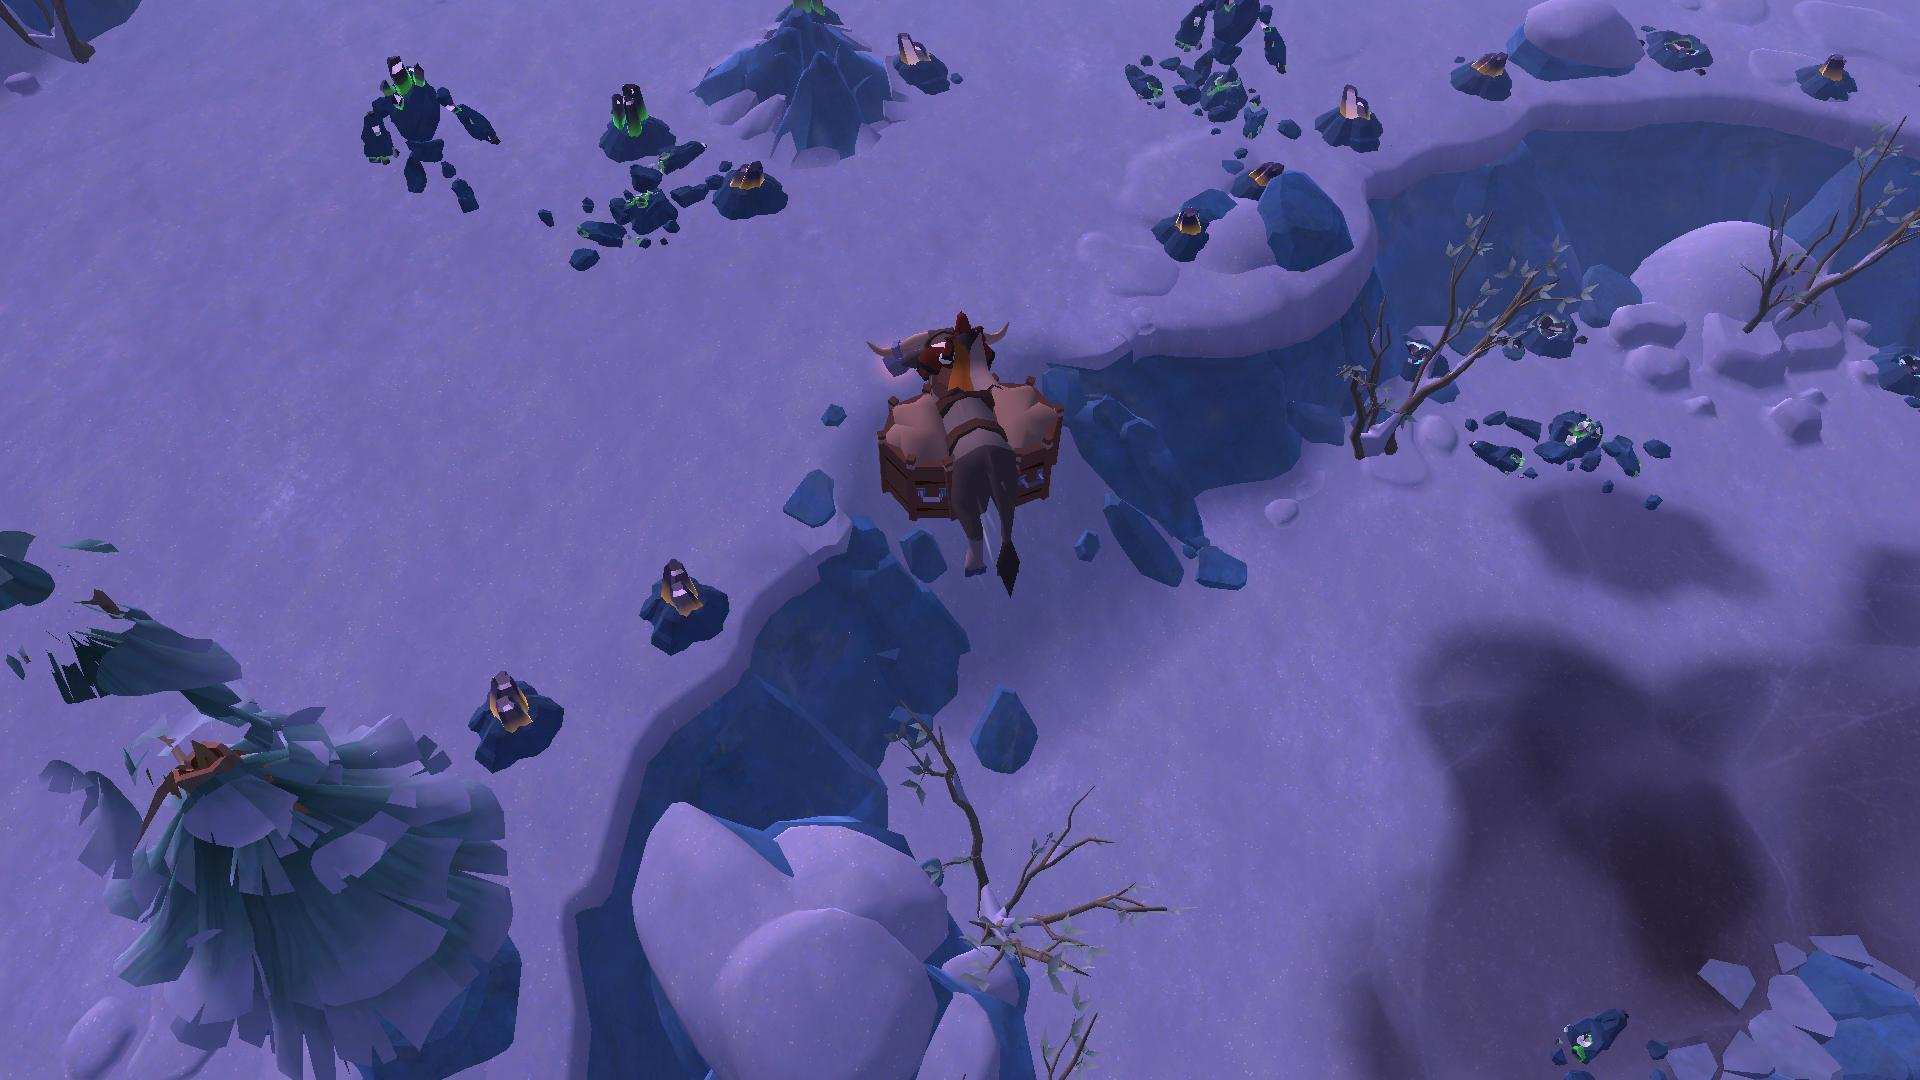ore_t3: (600, 74, 645, 142)
